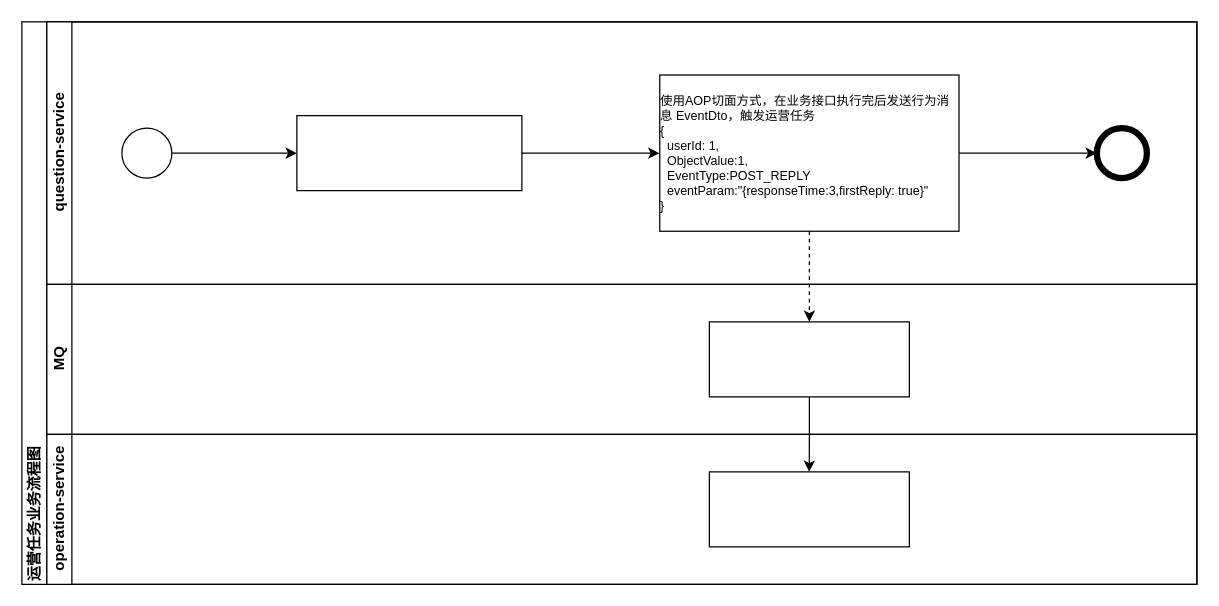
This 1219x606 diagram has some shape labels left out. Each missing label, with the centre of its shape:
"Queue： operation-task-record" belongs at [808,359].
"用户提交问题答案" belongs at [409,152].
"运营任务消息机制" belongs at [808,509].
